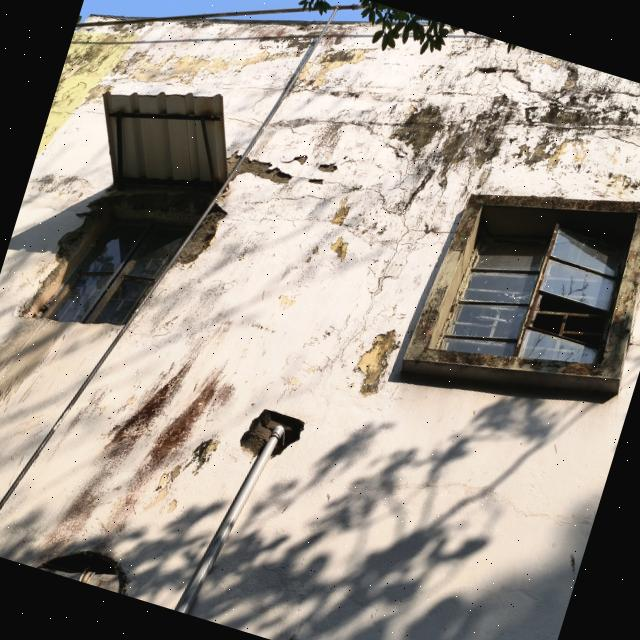crack: (240, 134, 465, 373)
peeling: (4, 134, 345, 328), (42, 16, 298, 158)
stain_mould: (51, 6, 640, 149), (400, 194, 640, 379), (37, 340, 232, 553), (385, 68, 640, 195)
